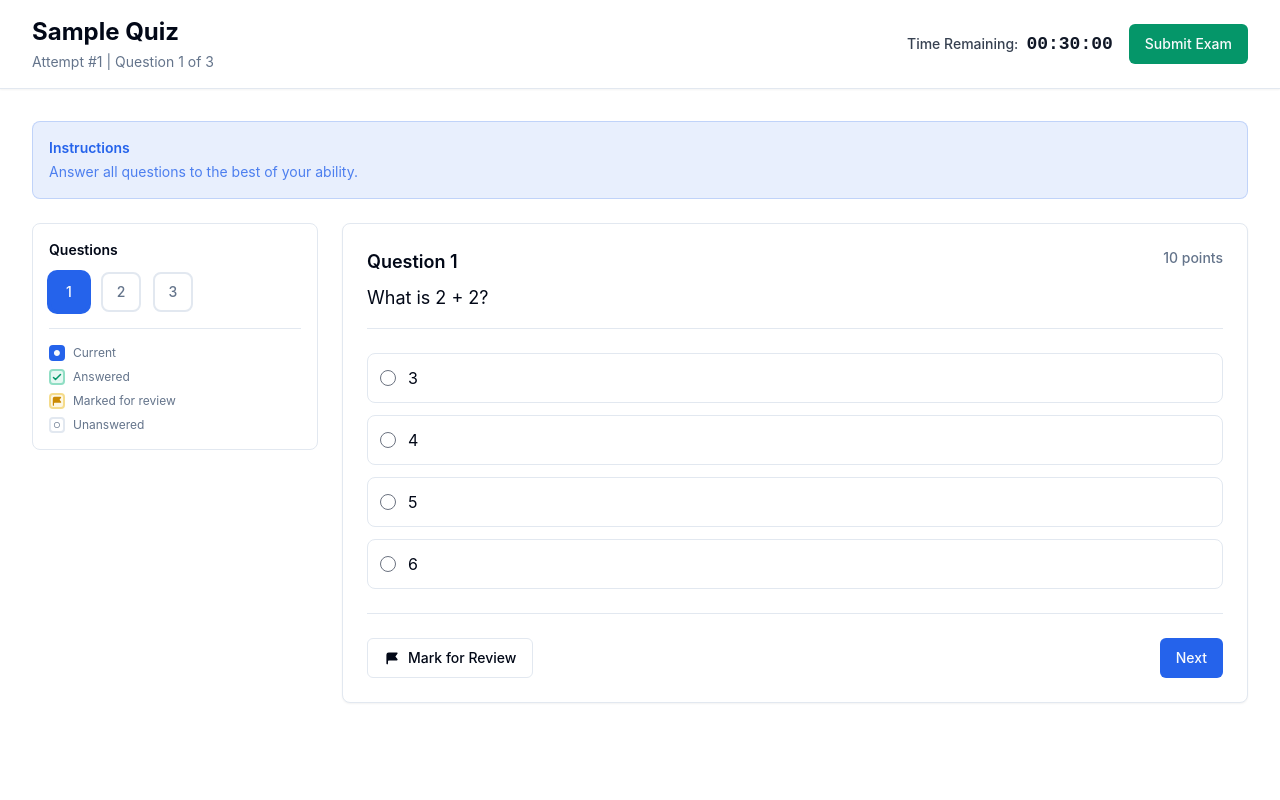
Scenario: ExerciseTakingPage › Navigation › should navigate to next question on next button click
Step 1. Click the button "Next" → (1191, 658), box top-left (1160, 638), bottom-right (1223, 678)
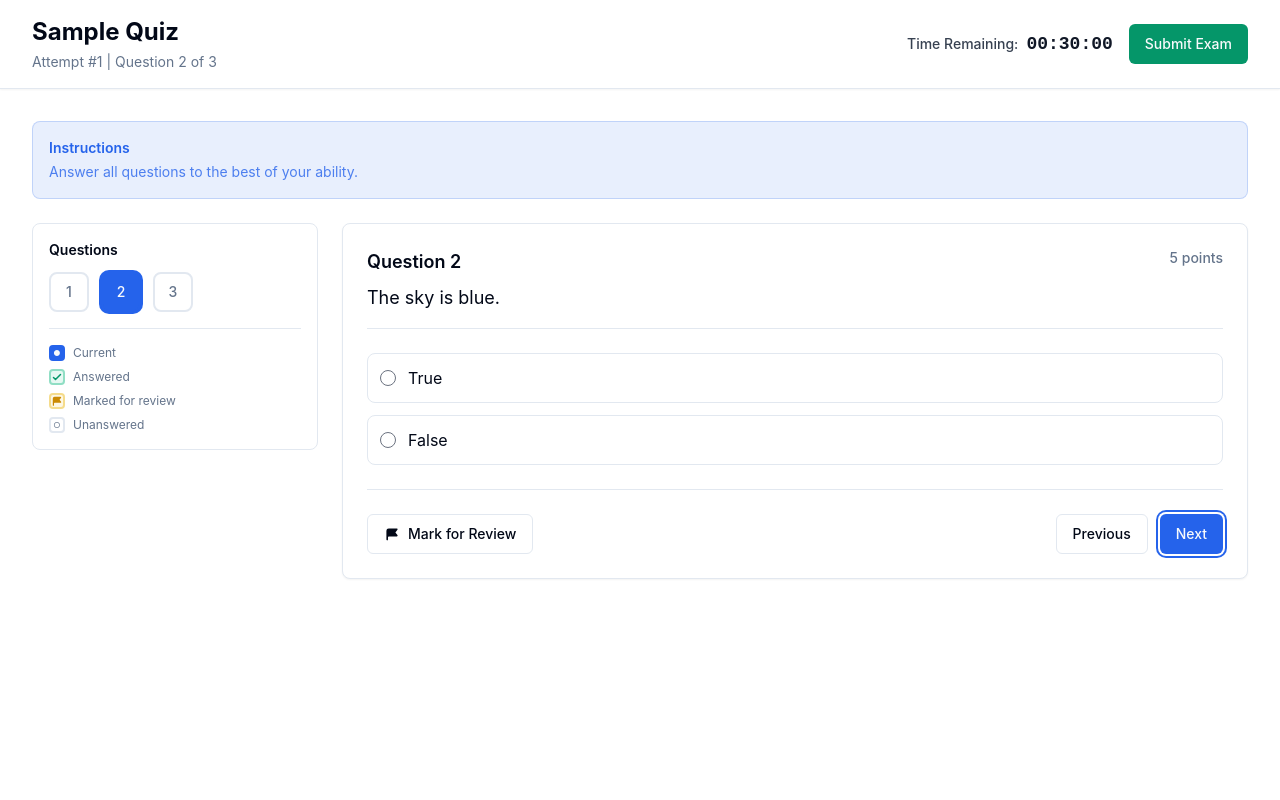
Expected: the text "The sky is blue." is shown, top-left (367, 287), bottom-right (500, 308)
